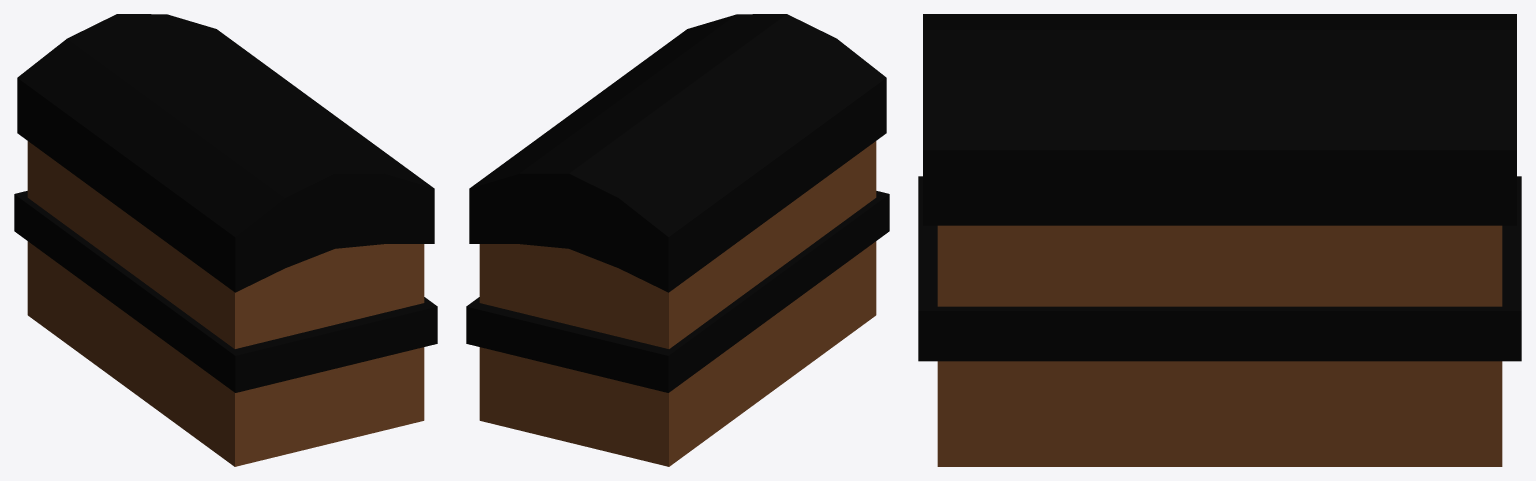
The model's file is Coffre 1.fbx.
3 renders of one model, left to right at view 1: azimuth 30°, elevation 25°; view 2: azimuth 150°, elevation 25°; view 3: azimuth 270°, elevation 25°, orthographic. The views are drawn at different scales.
Visible parts, largest first — view 1: SM_Coffre; view 2: SM_Coffre; view 3: SM_Coffre.
Part boxes in pixels (x1,y1,x2,y2): SM_Coffre: [14, 14, 437, 466]; SM_Coffre: [466, 14, 889, 466]; SM_Coffre: [918, 14, 1521, 466].
Size of the model in its own units: 214 by 277 by 405.
